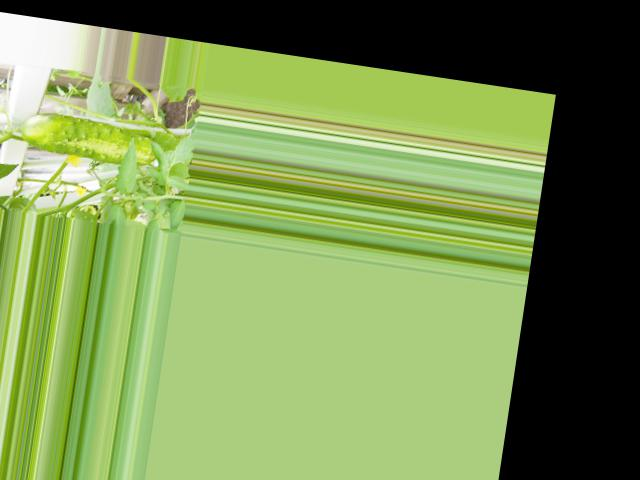cucumber: (17, 109, 158, 167)
